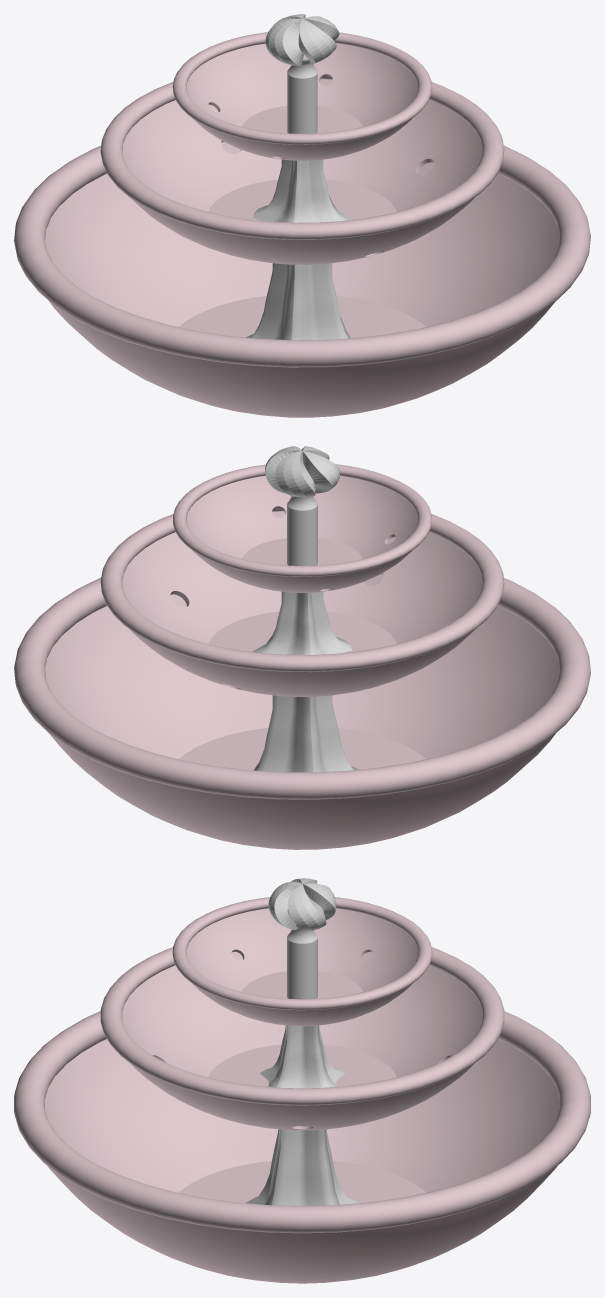
The model's file is Fountain.fbx.
The picture shows the model from 3 angles, top to bottom: view 1: azimuth 30°, elevation 25°; view 2: azimuth 150°, elevation 25°; view 3: azimuth 270°, elevation 25°; orthographic projection.
Visible parts, largest first — view 1: Vase1, Vase7, Vase8, core:pCube2, pCube1, fountaintop1:pSphere1, fountaintop1:pCylinder1; view 2: Vase1, Vase7, Vase8, core:pCube2, pCube1, fountaintop1:pSphere1, fountaintop1:pCylinder1; view 3: Vase1, Vase7, Vase8, core:pCube2, pCube1, fountaintop1:pSphere1, fountaintop1:pCylinder1.
Boxes of the visible parts, x1=… form: Vase1: x1=14, y1=141, x2=590, y2=417; Vase7: x1=100, y1=76, x2=504, y2=264; Vase8: x1=172, y1=32, x2=432, y2=160; core:pCube2: x1=246, y1=263, x2=350, y2=340; pCube1: x1=253, y1=159, x2=352, y2=222; fountaintop1:pSphere1: x1=265, y1=14, x2=339, y2=65; fountaintop1:pCylinder1: x1=287, y1=55, x2=317, y2=133; Vase1: x1=14, y1=573, x2=590, y2=849; Vase7: x1=100, y1=508, x2=504, y2=696; Vase8: x1=173, y1=464, x2=431, y2=592; core:pCube2: x1=254, y1=695, x2=358, y2=772; pCube1: x1=252, y1=591, x2=351, y2=654; fountaintop1:pSphere1: x1=265, y1=446, x2=339, y2=497; fountaintop1:pCylinder1: x1=287, y1=488, x2=317, y2=565; Vase1: x1=14, y1=1011, x2=590, y2=1283; Vase7: x1=100, y1=947, x2=504, y2=1130; Vase8: x1=172, y1=897, x2=432, y2=1026; core:pCube2: x1=246, y1=1129, x2=358, y2=1205; pCube1: x1=260, y1=1025, x2=344, y2=1088; fountaintop1:pSphere1: x1=268, y1=878, x2=336, y2=931; fountaintop1:pCylinder1: x1=287, y1=924, x2=317, y2=999.
Bounding box in the file's own units: 18.54 × 12.03 × 18.51.
